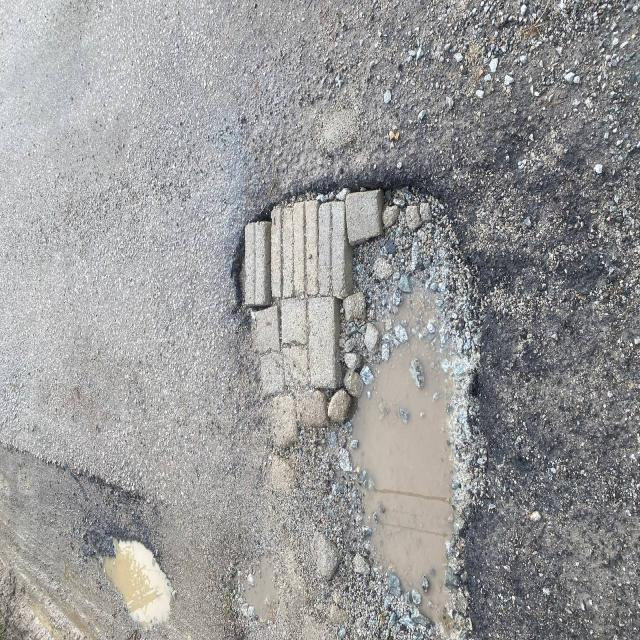pothole: (185, 145, 620, 583)
